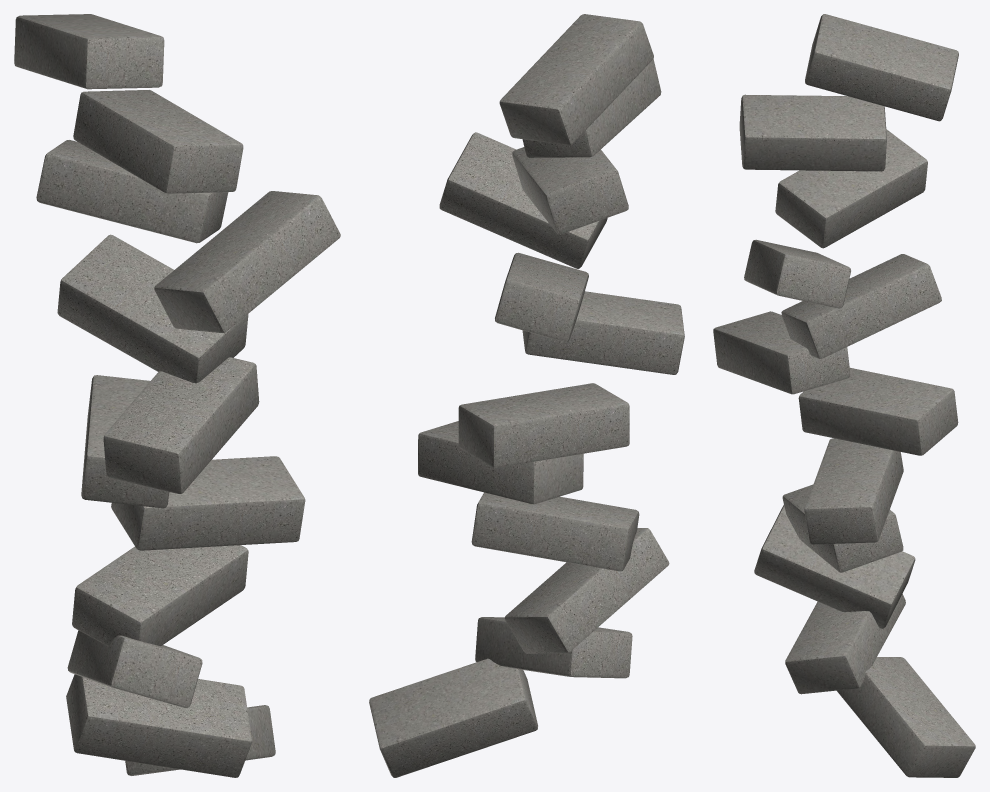
Rendered from PAV-BLQ-002_anim.glb.
3 renders of one model, left to right at view 1: azimuth 30°, elevation 25°; view 2: azimuth 150°, elevation 25°; view 3: azimuth 270°, elevation 25°, orthographic. The views are drawn at different scales.
Visible parts, largest first — view 1: PAV-BLQ-002_anim8, PAV-BLQ-002_anim1, PAV-BLQ-002_anim6, PAV-BLQ-002_anim7, PAV-BLQ-002_anim3, PAV-BLQ-002_anim4, PAV-BLQ-002_anim10, PAV-BLQ-002_anim9, PAV-BLQ-002_anim11, PAV-BLQ-002_anim2, PAV-BLQ-002_anim5, PAV-BLQ-002_anim0; view 2: PAV-BLQ-002_anim0, PAV-BLQ-002_anim11, PAV-BLQ-002_anim5, PAV-BLQ-002_anim3, PAV-BLQ-002_anim2, PAV-BLQ-002_anim8, PAV-BLQ-002_anim6, PAV-BLQ-002_anim4, PAV-BLQ-002_anim9, PAV-BLQ-002_anim7, PAV-BLQ-002_anim1, PAV-BLQ-002_anim10; view 3: PAV-BLQ-002_anim10, PAV-BLQ-002_anim11, PAV-BLQ-002_anim5, PAV-BLQ-002_anim0, PAV-BLQ-002_anim9, PAV-BLQ-002_anim7, PAV-BLQ-002_anim4, PAV-BLQ-002_anim2, PAV-BLQ-002_anim1, PAV-BLQ-002_anim6, PAV-BLQ-002_anim8, PAV-BLQ-002_anim3.
Boxes of the visible parts, left/top/right/bottom form: PAV-BLQ-002_anim8: left=154, top=191, right=340, bottom=332; PAV-BLQ-002_anim1: left=66, top=674, right=252, bottom=777; PAV-BLQ-002_anim6: left=103, top=357, right=259, bottom=493; PAV-BLQ-002_anim7: left=57, top=234, right=248, bottom=383; PAV-BLQ-002_anim3: left=72, top=545, right=248, bottom=646; PAV-BLQ-002_anim4: left=111, top=456, right=305, bottom=550; PAV-BLQ-002_anim10: left=73, top=90, right=243, bottom=193; PAV-BLQ-002_anim9: left=36, top=140, right=228, bottom=243; PAV-BLQ-002_anim11: left=14, top=14, right=164, bottom=89; PAV-BLQ-002_anim2: left=67, top=630, right=202, bottom=707; PAV-BLQ-002_anim5: left=81, top=375, right=169, bottom=508; PAV-BLQ-002_anim0: left=125, top=705, right=275, bottom=775; PAV-BLQ-002_anim0: left=369, top=658, right=537, bottom=777; PAV-BLQ-002_anim11: left=499, top=14, right=653, bottom=145; PAV-BLQ-002_anim5: left=458, top=383, right=629, bottom=467; PAV-BLQ-002_anim3: left=471, top=492, right=639, bottom=571; PAV-BLQ-002_anim2: left=504, top=528, right=669, bottom=653; PAV-BLQ-002_anim8: left=439, top=132, right=607, bottom=268; PAV-BLQ-002_anim6: left=522, top=291, right=684, bottom=374; PAV-BLQ-002_anim4: left=418, top=421, right=583, bottom=504; PAV-BLQ-002_anim9: left=512, top=147, right=628, bottom=234; PAV-BLQ-002_anim7: left=495, top=252, right=588, bottom=342; PAV-BLQ-002_anim1: left=475, top=617, right=632, bottom=678; PAV-BLQ-002_anim10: left=522, top=59, right=661, bottom=157; PAV-BLQ-002_anim10: left=739, top=94, right=886, bottom=171; PAV-BLQ-002_anim11: left=805, top=14, right=958, bottom=121; PAV-BLQ-002_anim5: left=798, top=367, right=958, bottom=455; PAV-BLQ-002_anim0: left=837, top=657, right=975, bottom=777; PAV-BLQ-002_anim9: left=775, top=129, right=927, bottom=248; PAV-BLQ-002_anim7: left=781, top=254, right=941, bottom=358; PAV-BLQ-002_anim4: left=804, top=438, right=903, bottom=544; PAV-BLQ-002_anim2: left=754, top=505, right=915, bottom=628; PAV-BLQ-002_anim1: left=785, top=594, right=905, bottom=694; PAV-BLQ-002_anim6: left=713, top=311, right=850, bottom=394; PAV-BLQ-002_anim8: left=744, top=239, right=850, bottom=308; PAV-BLQ-002_anim3: left=782, top=484, right=903, bottom=572.
Bounding box in the file's own units: 0.3462 × 1.06 × 0.3664.
1 material, 1 textured.
